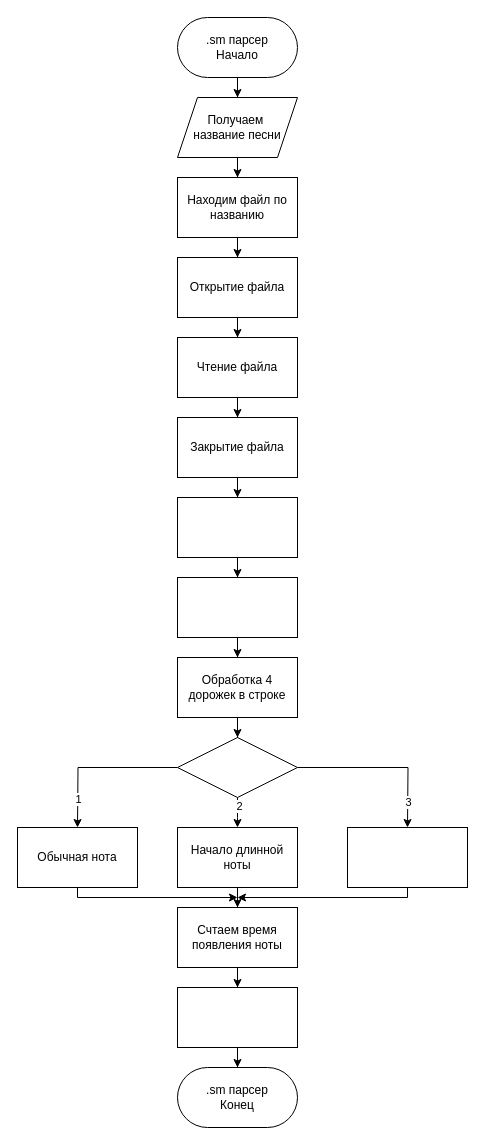
Image size: 485x1145. Some labels were removed from this diagram. The box of each missing label's shape, as (x1, y1, x2, y2) in pixels:
Конец длинной ноты: (346, 826, 468, 888)
Находим маркер начала данных "0,0,0,0,0:": (176, 496, 298, 558)
Разбитие данных на такты: (176, 576, 298, 638)
Символ?: (176, 736, 298, 798)
Сортировка по возрастанию времени: (176, 986, 298, 1048)
